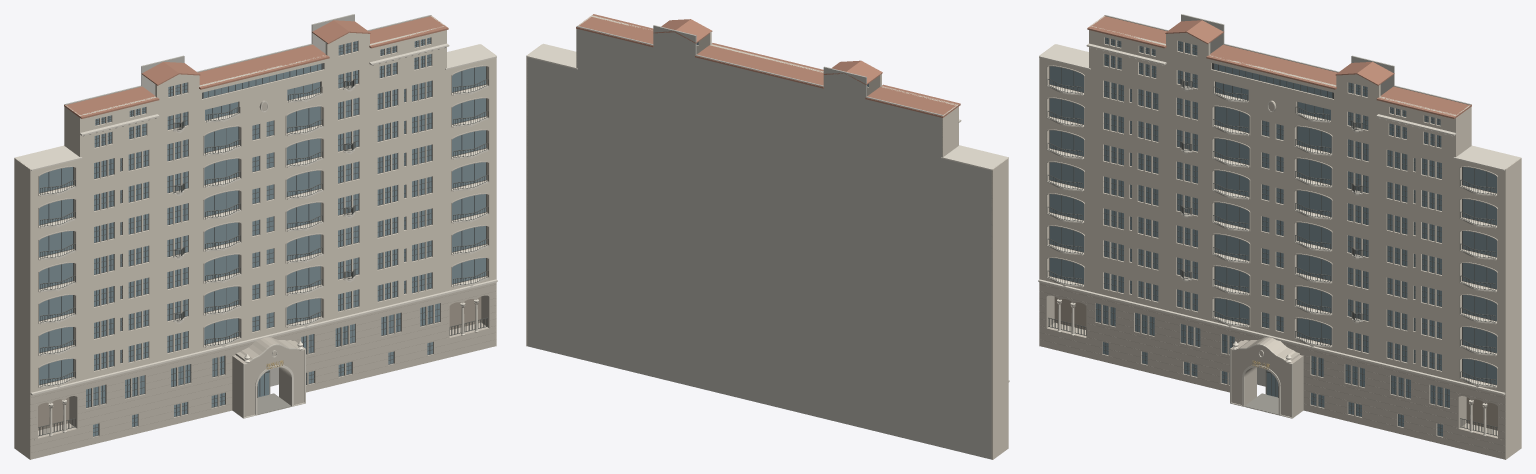
Rendered from jingan-haig-apartments-garden-front-raw.glb.
3 renders of one model, left to right at view 1: azimuth 30°, elevation 25°; view 2: azimuth 150°, elevation 25°; view 3: azimuth 330°, elevation 25°, orthographic.
Parts seen in each view (by area): view 1: 海格公寓主楼南向花园立面; view 2: 海格公寓主楼南向花园立面; view 3: 海格公寓主楼南向花园立面.
Part boxes in pixels (left/top/right/bottom): 海格公寓主楼南向花园立面: left=14, top=14, right=497, bottom=459; 海格公寓主楼南向花园立面: left=526, top=14, right=1009, bottom=459; 海格公寓主楼南向花园立面: left=1038, top=14, right=1521, bottom=459.
Size of the model in its own units: 52.88 by 38.06 by 5.48.
